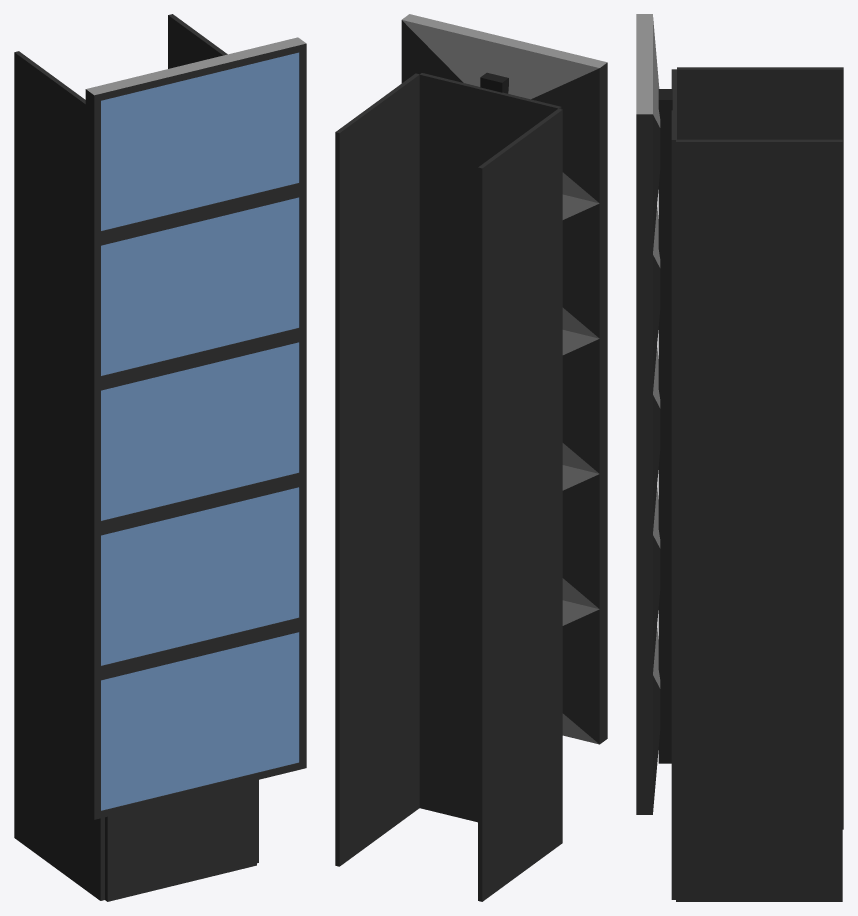
File: CAVE2-Column.fbx
The picture shows the model from 3 angles, left to right: view 1: azimuth 30°, elevation 25°; view 2: azimuth 150°, elevation 25°; view 3: azimuth 270°, elevation 25°; orthographic projection. The views are drawn at different scales.
Parts seen in each view (by area): view 1: CAVE2-ColumnSupportBoard, LabmdaTable-Display.004, LabmdaTable-Display.001, LabmdaTable-Display.003, LabmdaTable-Display, LabmdaTable-Display.002, CAVE2-ColumnSupportBoard.002, CAVE2-ColumnSupportBoard.001; view 2: CAVE2-ColumnSupportBoard, CAVE2-ColumnSupportBoard.001, CAVE2-ColumnSupportBoard.002, LabmdaTable-Display.004, LabmdaTable-Display.003, LabmdaTable-Display.002, LabmdaTable-Display.001, LabmdaTable-Display; view 3: CAVE2-ColumnSupportBoard.001, CAVE2-ColumnSupportBoard, Cube.004, LabmdaTable-Display.004, CAVE2-ColumnSupportBoard.002, LabmdaTable-Display.001, LabmdaTable-Display.003, LabmdaTable-Display.002, LabmdaTable-Display.
Boxes of the visible parts, x1,y1,x2,y2 form: CAVE2-ColumnSupportBoard: (14, 51, 104, 900); LabmdaTable-Display.004: (85, 37, 306, 240); LabmdaTable-Display.001: (85, 478, 306, 674); LabmdaTable-Display.003: (85, 188, 306, 384); LabmdaTable-Display: (85, 623, 306, 819); LabmdaTable-Display.002: (85, 333, 306, 529); CAVE2-ColumnSupportBoard.002: (105, 780, 256, 901); CAVE2-ColumnSupportBoard.001: (168, 14, 258, 863); CAVE2-ColumnSupportBoard: (478, 108, 562, 901); CAVE2-ColumnSupportBoard.001: (335, 73, 419, 866); CAVE2-ColumnSupportBoard.002: (419, 73, 561, 822); LabmdaTable-Display.004: (401, 14, 607, 203); LabmdaTable-Display.003: (562, 194, 607, 338); LabmdaTable-Display.002: (562, 330, 607, 473); LabmdaTable-Display.001: (562, 465, 607, 609); LabmdaTable-Display: (562, 600, 607, 744); CAVE2-ColumnSupportBoard.001: (676, 139, 842, 901); CAVE2-ColumnSupportBoard: (677, 67, 843, 829); Cube.004: (658, 89, 672, 763); LabmdaTable-Display.004: (636, 14, 660, 254); CAVE2-ColumnSupportBoard.002: (671, 69, 676, 899); LabmdaTable-Display.001: (636, 485, 660, 674); LabmdaTable-Display.003: (636, 205, 660, 394); LabmdaTable-Display.002: (636, 345, 660, 534); LabmdaTable-Display: (636, 626, 660, 814).
Bounding box in the file's own units: 0.69 × 2.57 × 0.6029.
